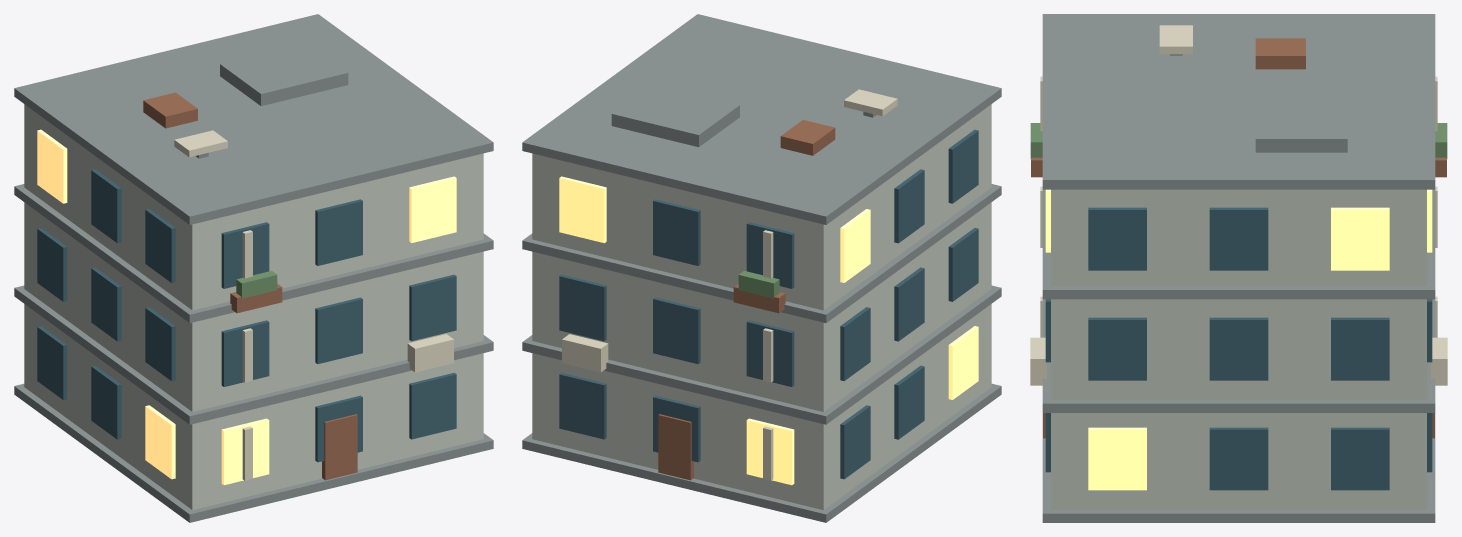
File: khrushchovka.glb
The picture shows the model from 3 angles, left to right: view 1: azimuth 30°, elevation 25°; view 2: azimuth 150°, elevation 25°; view 3: azimuth 270°, elevation 25°; orthographic projection. The views are drawn at different scales.
Parts seen in each view (by area): view 1: Module_0; view 2: Module_0; view 3: Module_0.
Boxes of the visible parts, bbox=[...] form: Module_0: bbox=[14, 14, 493, 522]; Module_0: bbox=[522, 14, 1001, 522]; Module_0: bbox=[1030, 14, 1447, 522].
Size of the model in its own units: 0.94 by 0.9495 by 0.998.
